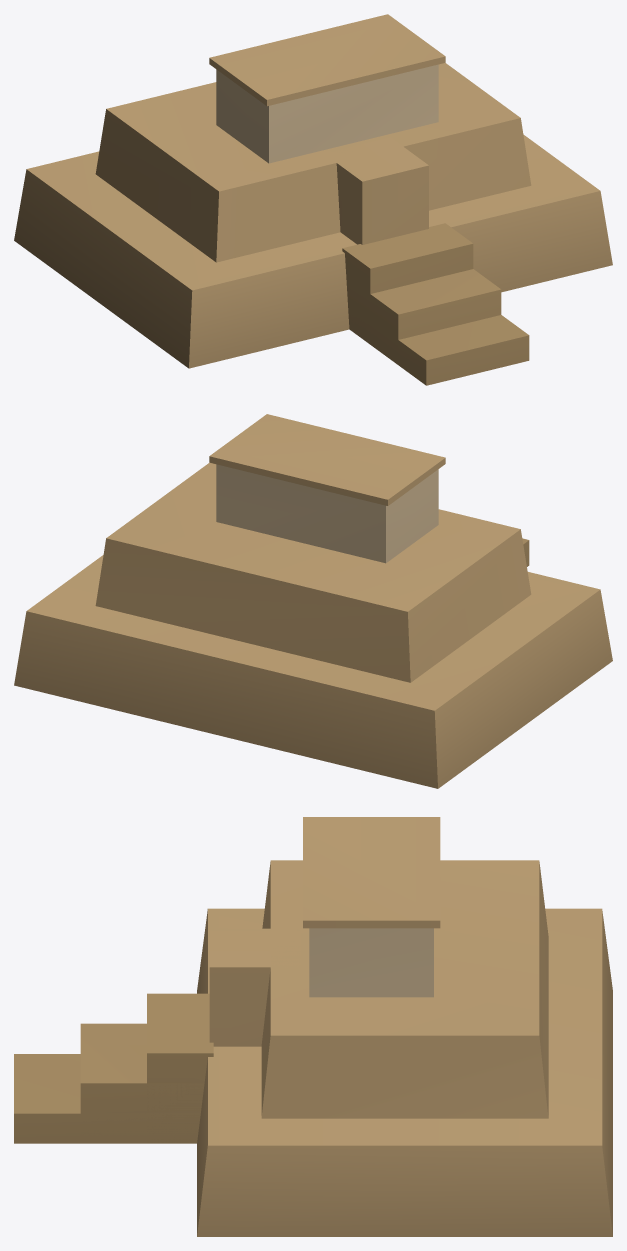
The model's file is moche_platform_lod1.glb.
3 renders of one model, top to bottom at view 1: azimuth 30°, elevation 25°; view 2: azimuth 150°, elevation 25°; view 3: azimuth 270°, elevation 25°, orthographic. The views are drawn at different scales.
Visible parts, largest first — view 1: GEO-Arch_moche_platform_LOD1; view 2: GEO-Arch_moche_platform_LOD1; view 3: GEO-Arch_moche_platform_LOD1.
Boxes of the visible parts, x1,y1,x2,y2 form: GEO-Arch_moche_platform_LOD1: (14, 14, 612, 385); GEO-Arch_moche_platform_LOD1: (14, 414, 612, 788); GEO-Arch_moche_platform_LOD1: (14, 817, 612, 1236).
Size of the model in its own units: 14 by 6.5 by 14.4.
